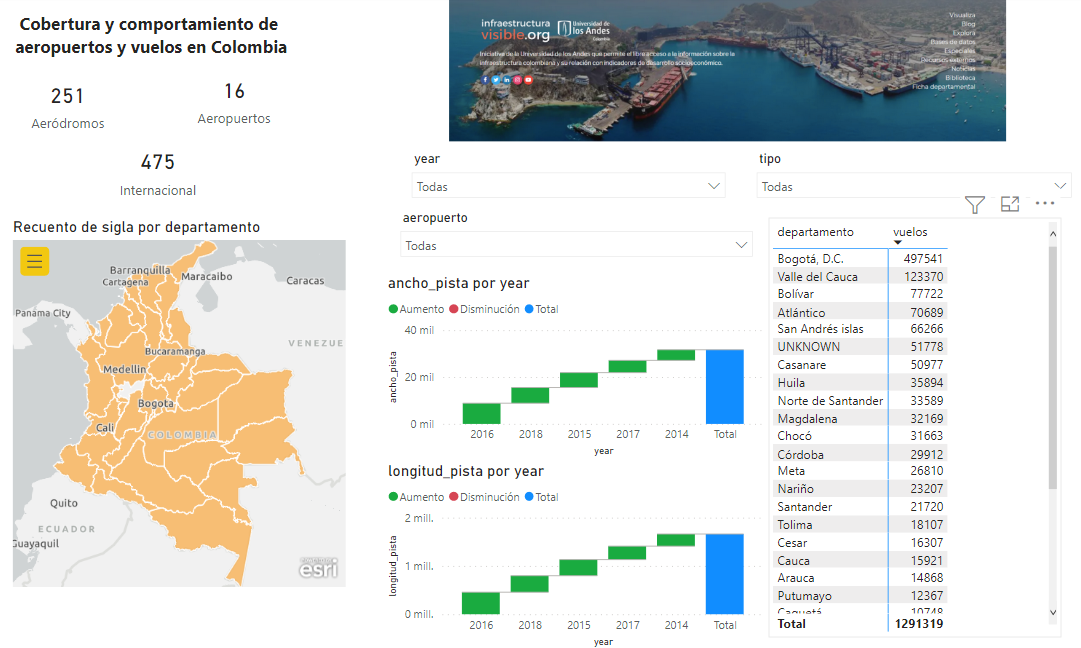

The page's visual inventory and layout, read from the dashboard file:
{"tool":"powerbi","page":{"name":"Página 1","canvas":[1280,720],"ordinal":0},"visuals":[{"type":"slicer","fields":{"Values":["aeropuertos.year"]},"box":[418.9,0,280.2,109.9],"z":0},{"type":"pivotTable","title":"Número de vuelos","fields":{"Rows":["aeropuertos.departamento"],"Columns":["aeropuertos.year"],"Values":["Sum(hecho_vuelos.vuelos)"]},"box":[954.5,104.4,325.5,615.3],"z":1000},{"type":"waterfallChart","title":"Cambios longitud de pista","fields":{"Category":["aeropuertos.year"],"Y":["Sum(aeropuertos.Column_longitud)"]},"box":[428.5,439.5,526,259.6],"z":2000},{"type":"esriVisual","title":"Número de aeropuertos por departamento","fields":{"Location":["aeropuertos.departamento"],"Color":["CountNonNull(aeropuertos.sigla)"]},"box":[0,0,418.9,719.7],"z":3000},{"type":"actionButton","box":[0,0,100,40],"z":4000},{"type":"slicer","fields":{"Values":["aeropuertos.tipo"]},"box":[699.1,0,337.9,109.9],"z":5000},{"type":"slicer","fields":{"Values":["aeropuertos.nombre"]},"box":[418.9,104.4,535.6,64.5],"z":6000},{"type":"waterfallChart","title":"Cambios ancho de pista","fields":{"Category":["aeropuertos.year"],"Y":["Sum(aeropuertos.Column_ancho)"]},"box":[418.9,168.9,526,255.5],"z":7000},{"type":"slicer","fields":{"Values":["aeropuertos.vigente"]},"box":[954.5,0,299.4,74.2],"z":7001}]}

Visuals, with their boxes on the page's 1280x720 design canvas (x1, y1, x2, y2). These are canvas units, not pixel positions in the 1081x648 screenshot, which may show the page scaled, cropped or inside an application window:
slicer - aeropuertos.year: {"x1": 419, "y1": 0, "x2": 699, "y2": 110}
"Número de vuelos" pivotTable: {"x1": 954, "y1": 104, "x2": 1280, "y2": 720}
"Cambios longitud de pista" waterfallChart: {"x1": 428, "y1": 440, "x2": 954, "y2": 699}
"Número de aeropuertos por departamento" esriVisual: {"x1": 0, "y1": 0, "x2": 419, "y2": 720}
actionButton: {"x1": 0, "y1": 0, "x2": 100, "y2": 40}
slicer - aeropuertos.tipo: {"x1": 699, "y1": 0, "x2": 1037, "y2": 110}
slicer - aeropuertos.nombre: {"x1": 419, "y1": 104, "x2": 954, "y2": 169}
"Cambios ancho de pista" waterfallChart: {"x1": 419, "y1": 169, "x2": 945, "y2": 424}
slicer - aeropuertos.vigente: {"x1": 954, "y1": 0, "x2": 1254, "y2": 74}
